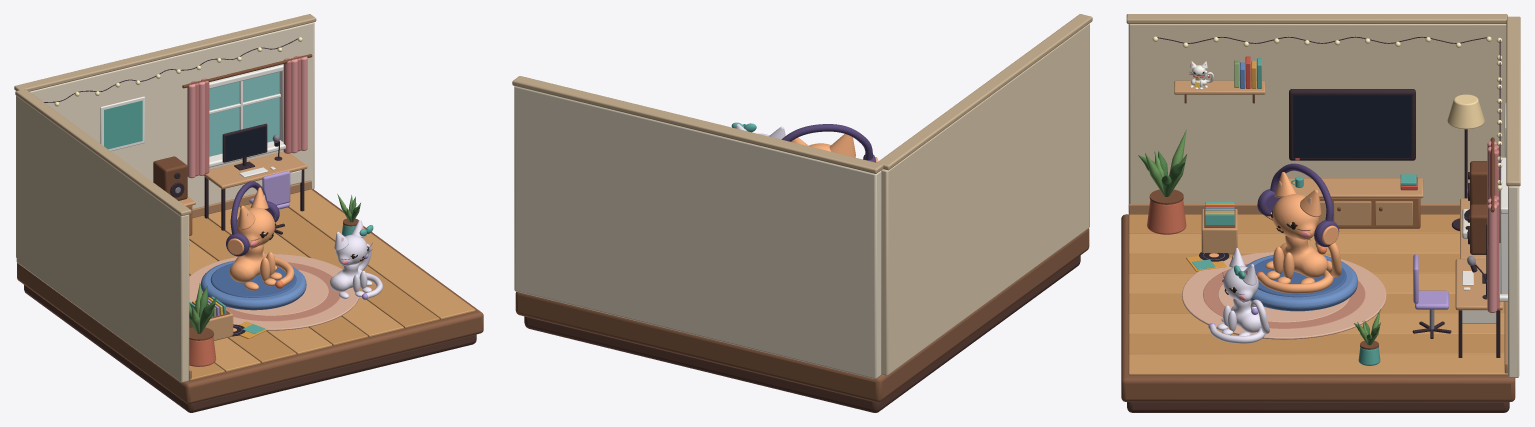
Rendered from room.glb.
3 renders of one model, left to right at view 1: azimuth 30°, elevation 25°; view 2: azimuth 150°, elevation 25°; view 3: azimuth 270°, elevation 25°, orthographic. The views are drawn at different scales.
Visible parts, largest first — view 1: wall_left, wall_back, slab, plank7, slab_under, plank6, window_sky, wall_back_cap, rug, wall_left_cap, curtain_r, curtain_l (+25 smaller); view 2: wall_back, wall_left, slab, slab_under, wall_back_cap, wall_left_cap, neko_phones_band; view 3: wall_left, slab, plank7, tv_screen, plank6, plank1, slab_under, rug, wall_left_cap, plank5, plank2, plank0 (+41 smaller).
Boxes of the visible parts, x1=… form: wall_left: x1=16, y1=96, x2=189, y2=382; wall_back: x1=16, y1=22, x2=314, y2=257; slab: x1=17, y1=189, x2=483, y2=404; plank7: x1=288, y1=189, x2=475, y2=319; slab_under: x1=24, y1=285, x2=476, y2=412; plank6: x1=240, y1=204, x2=439, y2=328; window_sky: x1=209, y1=72, x2=279, y2=156; wall_back_cap: x1=14, y1=14, x2=316, y2=91; rug: x1=189, y1=254, x2=359, y2=330; wall_left_cap: x1=15, y1=89, x2=191, y2=216; curtain_r: x1=283, y1=55, x2=307, y2=153; curtain_l: x1=187, y1=78, x2=209, y2=178; wall_back: x1=514, y1=86, x2=881, y2=378; wall_left: x1=881, y1=23, x2=1089, y2=375; slab: x1=515, y1=228, x2=1089, y2=402; slab_under: x1=524, y1=255, x2=1080, y2=412; wall_back_cap: x1=512, y1=76, x2=883, y2=173; wall_left_cap: x1=877, y1=14, x2=1092, y2=170; neko_phones_band: x1=781, y1=124, x2=872, y2=159; wall_left: x1=1128, y1=24, x2=1506, y2=204; slab: x1=1121, y1=214, x2=1515, y2=401; plank7: x1=1128, y1=354, x2=1507, y2=375; tv_screen: x1=1293, y1=95, x2=1411, y2=157; plank6: x1=1128, y1=334, x2=1504, y2=354; plank1: x1=1128, y1=234, x2=1459, y2=254; slab_under: x1=1127, y1=402, x2=1509, y2=412; rug: x1=1182, y1=252, x2=1386, y2=339; wall_left_cap: x1=1126, y1=14, x2=1507, y2=23; plank5: x1=1128, y1=314, x2=1504, y2=334; plank2: x1=1128, y1=254, x2=1459, y2=274; plank0: x1=1128, y1=214, x2=1459, y2=234.
Size of the model in its own units: 10.54 by 6.84 by 10.54.
